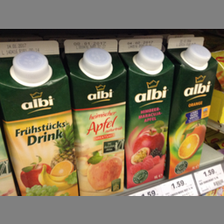juice: (1, 40, 79, 195), (64, 38, 126, 196), (118, 37, 175, 189), (166, 37, 218, 179)
